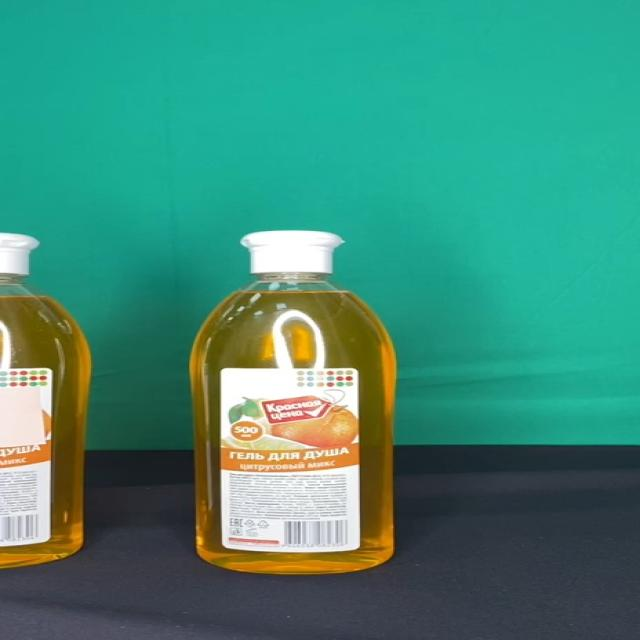Bottle: (187, 230, 400, 574)
Cap: (240, 231, 344, 274)
